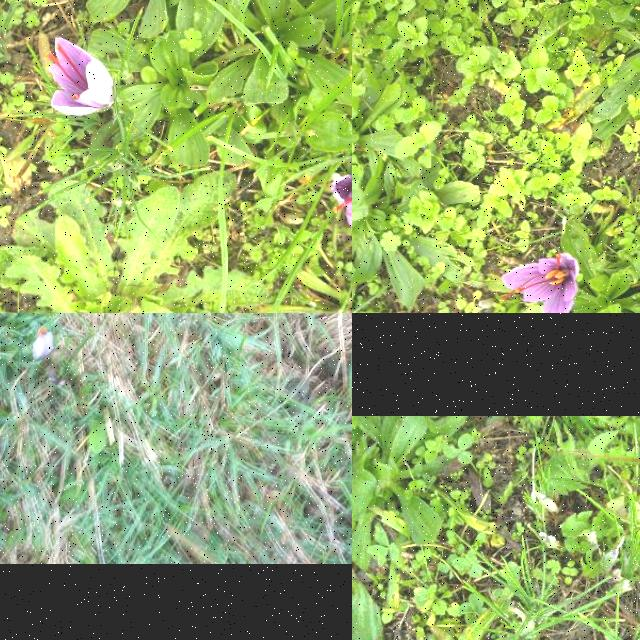flower: (46, 37, 116, 117), (501, 255, 580, 313), (32, 328, 54, 360)
